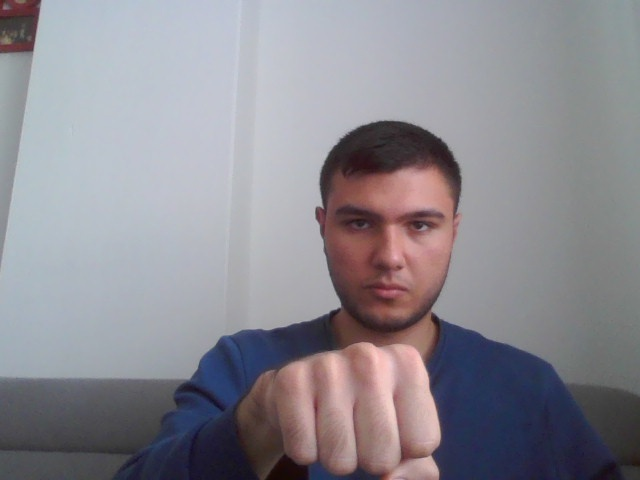yes: (276, 341, 443, 480)
